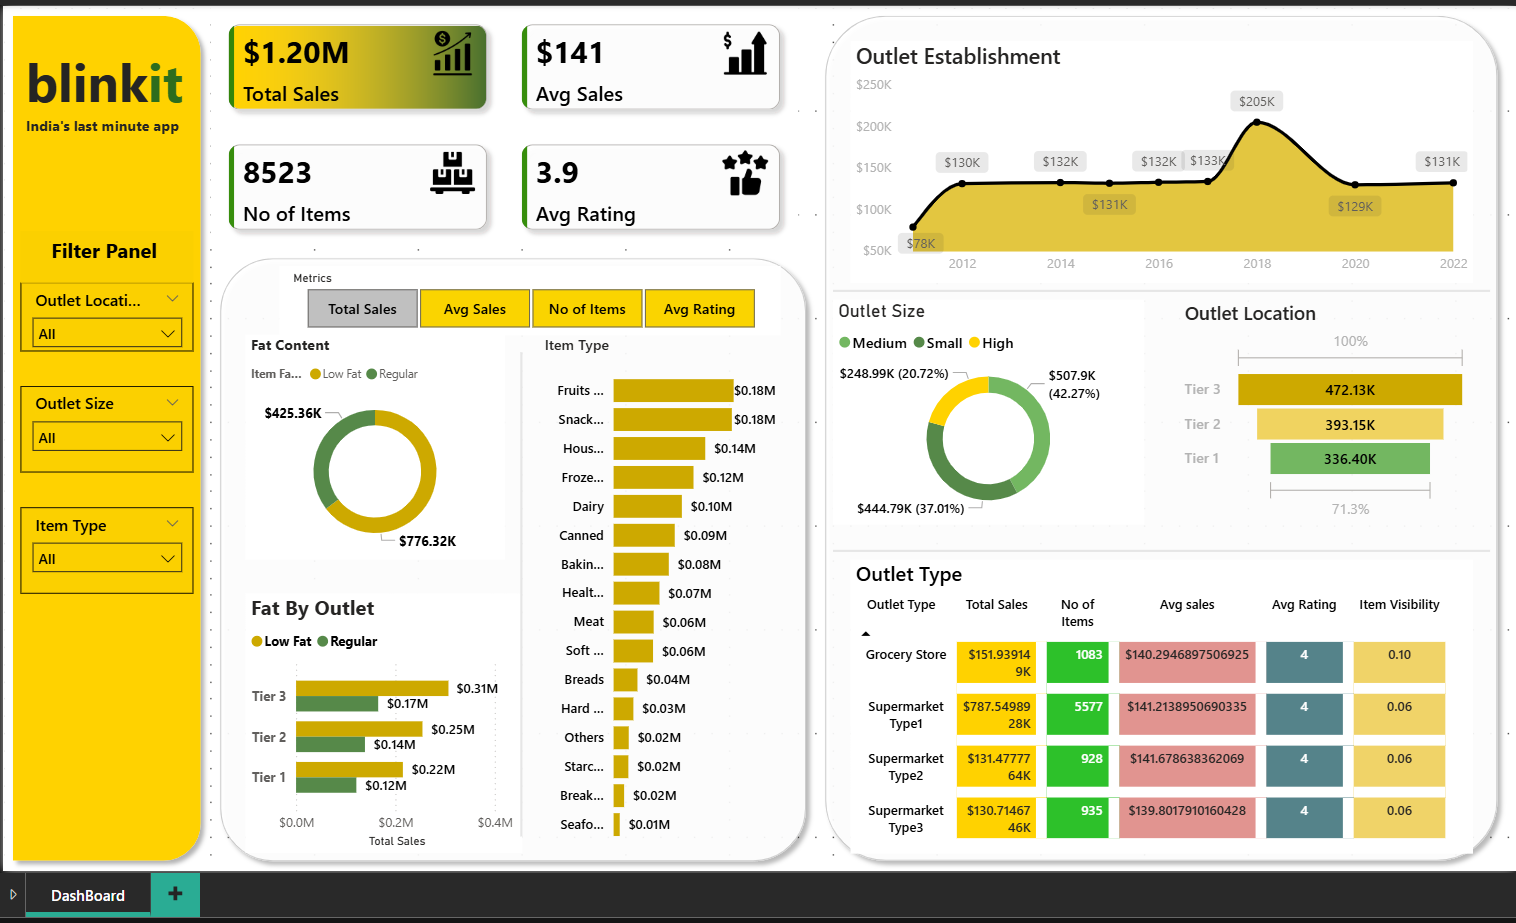

This screenshot's page, from the dashboard's own definition file:
{"tool":"powerbi","page":{"name":"Page 1","canvas":[1400,800],"ordinal":0},"visuals":[{"type":"shape","box":[192,224,560,576],"z":0},{"type":"shape","box":[0,0,192,800],"z":1000},{"type":"shape","box":[752,0,640,800],"z":2000},{"type":"pivotTable","title":"Outlet Type","fields":{"Values":["BlinkIT Grocery Data.total sales","BlinkIT Grocery Data.No of Items","BlinkIT Grocery Data.Avg sales","BlinkIT Grocery Data.Avg Rating","Avg(BlinkIT Grocery Data.Item Visibility)"],"Rows":["BlinkIT Grocery Data.Outlet Type"]},"box":[784,512,576,272],"z":3000},{"type":"lineChart","title":" Outlet Establishment ","fields":{"Category":["BlinkIT Grocery Data.Outlet Establishment Year"],"Y":["BlinkIT Grocery Data.total sales"]},"box":[784,32,576,224],"z":4000},{"type":"donutChart","title":"Outlet Size","fields":{"Category":["BlinkIT Grocery Data.Outlet Size"],"Y":["BlinkIT Grocery Data.total sales"]},"box":[768,272,288,208],"z":5000},{"type":"funnel","title":"Outlet Location ","fields":{"Category":["BlinkIT Grocery Data.Outlet Location Type"],"Y":["Sum(BlinkIT Grocery Data.Sales)"]},"box":[1088,272,272,208],"z":6000},{"type":"slicer","fields":{"Values":["Metrics.Metrics"]},"box":[256,240,464,64],"z":7000},{"type":"donutChart","title":" Fat Content","fields":{"Y":["BlinkIT Grocery Data.total sales"],"Category":["BlinkIT Grocery Data.Item Fat Content"]},"box":[224,304,240,208],"z":8000},{"type":"clusteredBarChart","title":" Fat By Outlet","fields":{"Y":["BlinkIT Grocery Data.total sales"],"Category":["BlinkIT Grocery Data.Outlet Location Type"],"Series":["BlinkIT Grocery Data.Item Fat Content"]},"box":[224,544,256,240],"z":9000},{"type":"barChart","title":" Item Type","fields":{"Y":["BlinkIT Grocery Data.total sales"],"Category":["BlinkIT Grocery Data.Item Type"]},"box":[496,304,224,480],"z":10000},{"type":"textbox","box":[16,32,192,80],"z":11000},{"type":"textbox","box":[16,96,160,32],"z":12000},{"type":"shape","box":[448,320,64,448],"z":13000},{"type":"shape","box":[768,256,608,16],"z":14000},{"type":"shape","box":[768,496,608,16],"z":15000},{"type":"cardVisual","fields":{"Data":["BlinkIT Grocery Data.total sales","BlinkIT Grocery Data.Avg sales","BlinkIT Grocery Data.No of Items","BlinkIT Grocery Data.Avg Rating"]},"box":[192,0,544,224],"z":16000},{"type":"slicer","fields":{"Values":["BlinkIT Grocery Data.Outlet Location Type"]},"box":[16,256,160,64],"z":17000},{"type":"slicer","fields":{"Values":["BlinkIT Grocery Data.Outlet Size"]},"box":[16,352,160,80],"z":18000},{"type":"slicer","fields":{"Values":["BlinkIT Grocery Data.Item Type"]},"box":[16,464,160,80],"z":19000},{"type":"textbox","box":[16,208,160,48],"z":20000}]}

Visuals, with their boxes on the page's 1400x800 design canvas (x1, y1, x2, y2). These are canvas units, not pixel positions in the 1516x923 screenshot, which may show the page scaled, cropped or inside an application window:
shape: pyautogui.locateOnScreen(192, 224, 752, 800)
shape: pyautogui.locateOnScreen(0, 0, 192, 800)
shape: pyautogui.locateOnScreen(752, 0, 1392, 800)
"Outlet Type" pivotTable: pyautogui.locateOnScreen(784, 512, 1360, 784)
" Outlet Establishment " lineChart: pyautogui.locateOnScreen(784, 32, 1360, 256)
"Outlet Size" donutChart: pyautogui.locateOnScreen(768, 272, 1056, 480)
"Outlet Location " funnel: pyautogui.locateOnScreen(1088, 272, 1360, 480)
slicer - Metrics.Metrics: pyautogui.locateOnScreen(256, 240, 720, 304)
" Fat Content" donutChart: pyautogui.locateOnScreen(224, 304, 464, 512)
" Fat By Outlet" clusteredBarChart: pyautogui.locateOnScreen(224, 544, 480, 784)
" Item Type" barChart: pyautogui.locateOnScreen(496, 304, 720, 784)
textbox: pyautogui.locateOnScreen(16, 32, 208, 112)
textbox: pyautogui.locateOnScreen(16, 96, 176, 128)
shape: pyautogui.locateOnScreen(448, 320, 512, 768)
shape: pyautogui.locateOnScreen(768, 256, 1376, 272)
shape: pyautogui.locateOnScreen(768, 496, 1376, 512)
cardVisual - BlinkIT Grocery Data.total sales x BlinkIT Grocery Data.Avg sales: pyautogui.locateOnScreen(192, 0, 736, 224)
slicer - BlinkIT Grocery Data.Outlet Location Type: pyautogui.locateOnScreen(16, 256, 176, 320)
slicer - BlinkIT Grocery Data.Outlet Size: pyautogui.locateOnScreen(16, 352, 176, 432)
slicer - BlinkIT Grocery Data.Item Type: pyautogui.locateOnScreen(16, 464, 176, 544)
textbox: pyautogui.locateOnScreen(16, 208, 176, 256)
